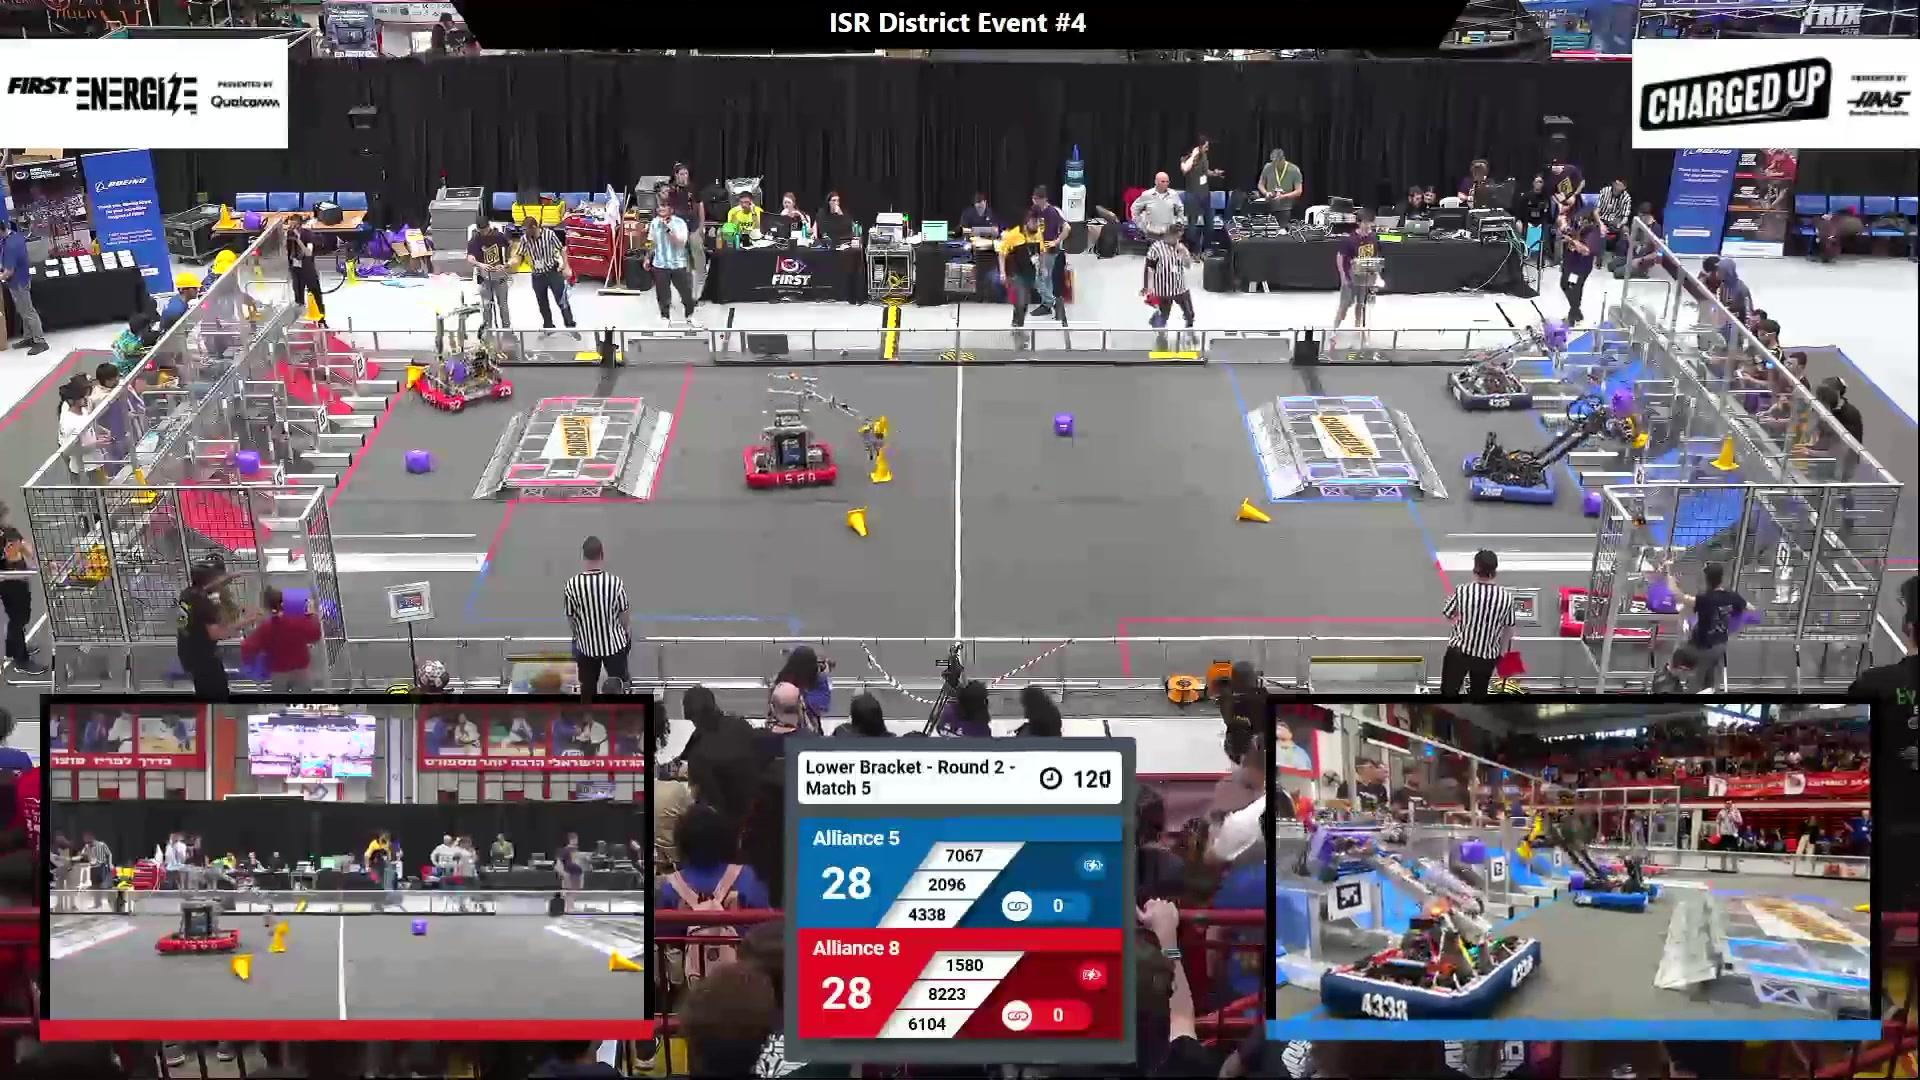robot: (1292, 818, 1542, 1017), (79, 541, 274, 680), (1462, 396, 1648, 505), (741, 367, 885, 488), (1559, 500, 1667, 642), (1519, 820, 1663, 910), (411, 303, 516, 415), (1447, 322, 1571, 410), (157, 866, 281, 953), (1610, 816, 1664, 874)
